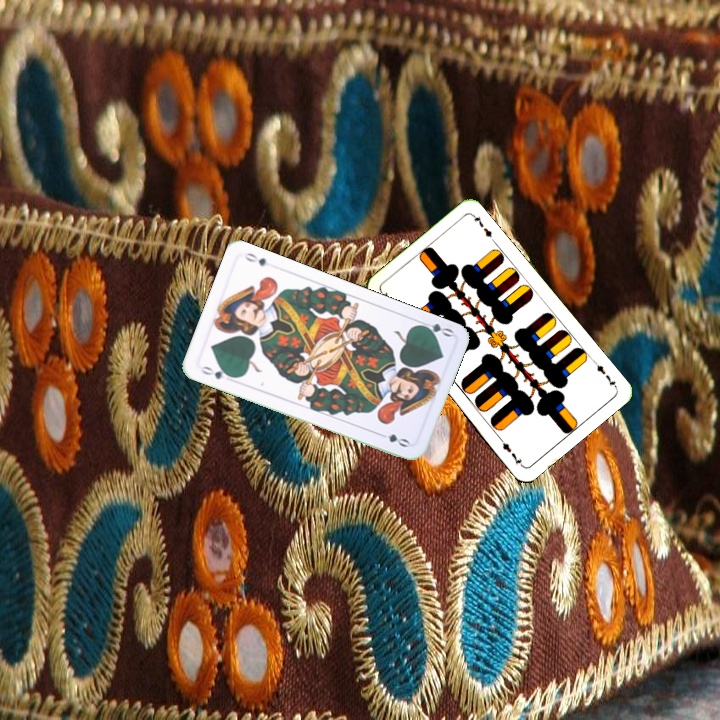E7: (589, 356, 619, 390)
GO: (415, 316, 455, 340), (197, 362, 236, 382)
